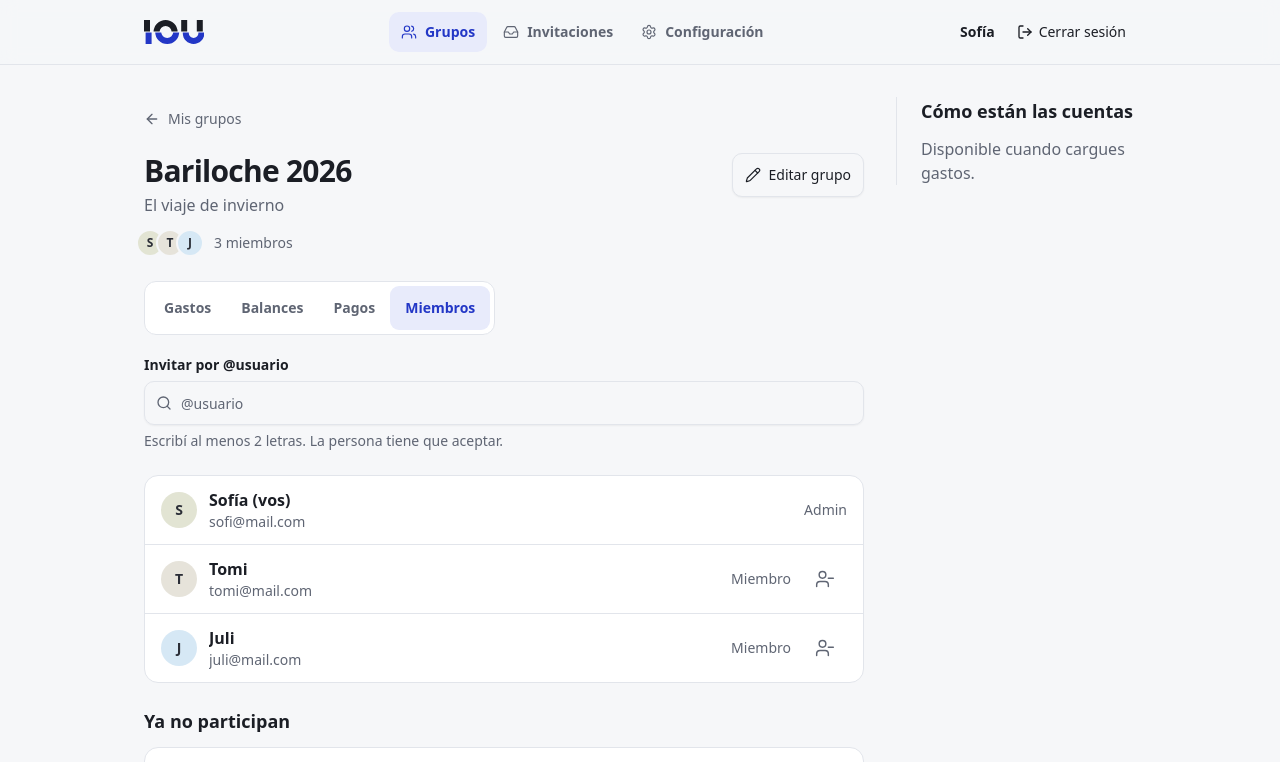
Test case: Quitar del grupo (admin) › pide confirmación y pasa a "Ya no participan" (CA-11.1)
Click the button named "Quitar a Tomi".
click(825, 579)  # box [803,557,847,601]
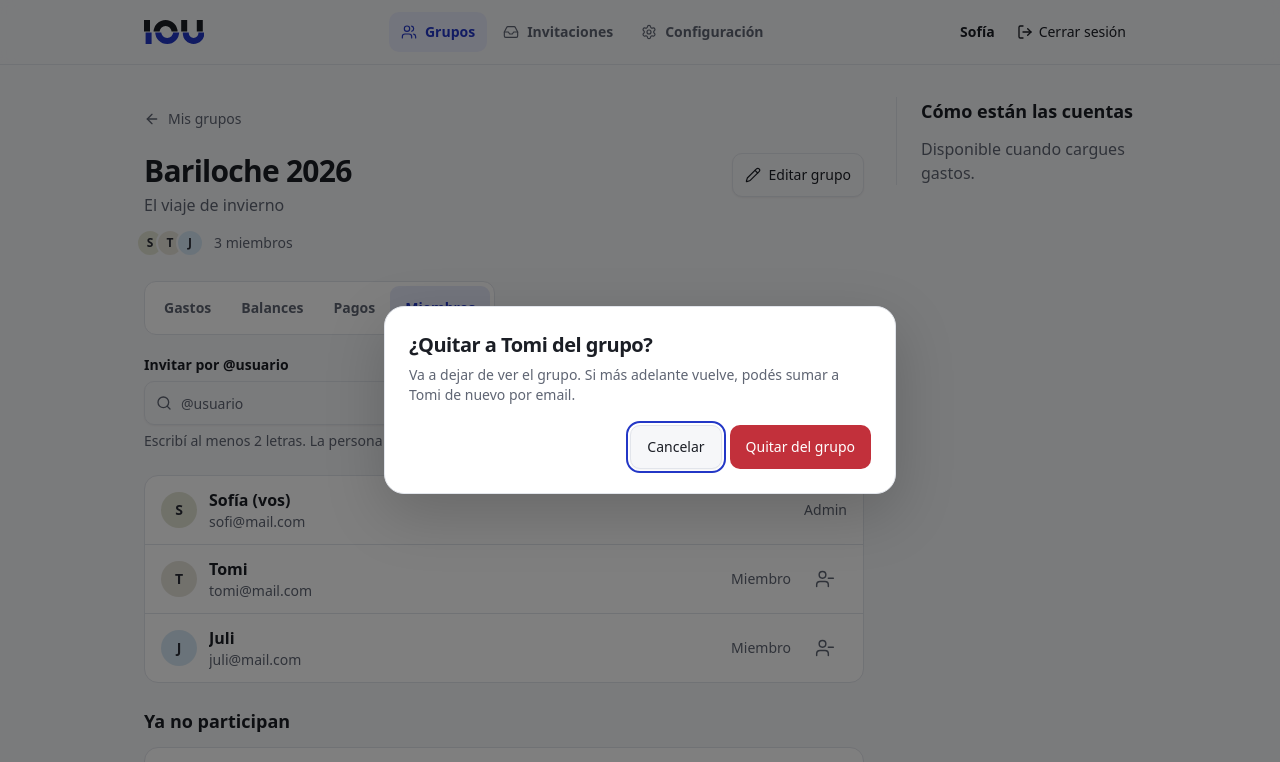
Click the button "Quitar del grupo".
click(800, 447)  # box [730,425,871,469]
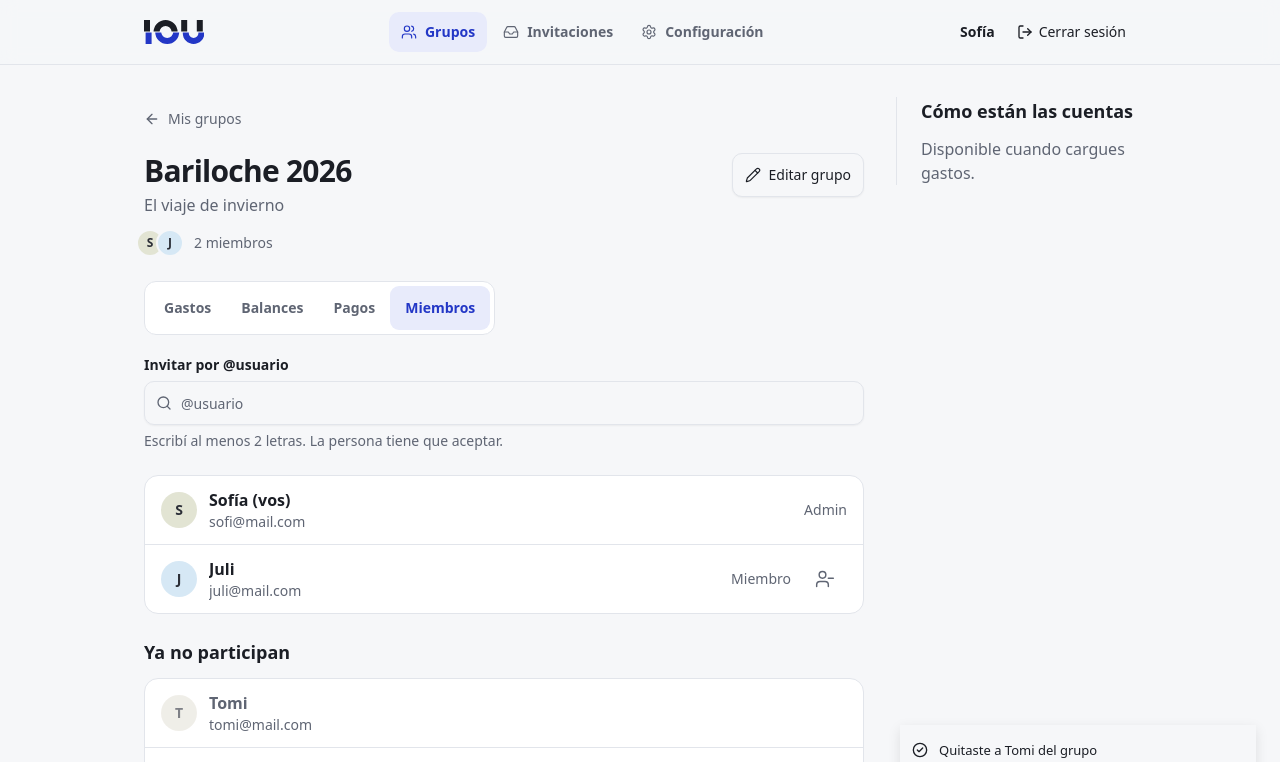
Expected: the text "Tomi" is shown, [209,692,248,714]
Now the dialog is gone
